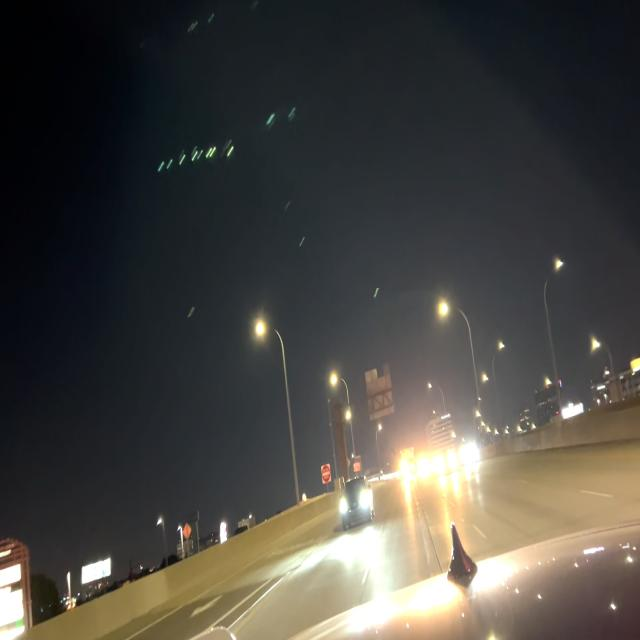back-of-sign: (365, 364, 395, 422)
